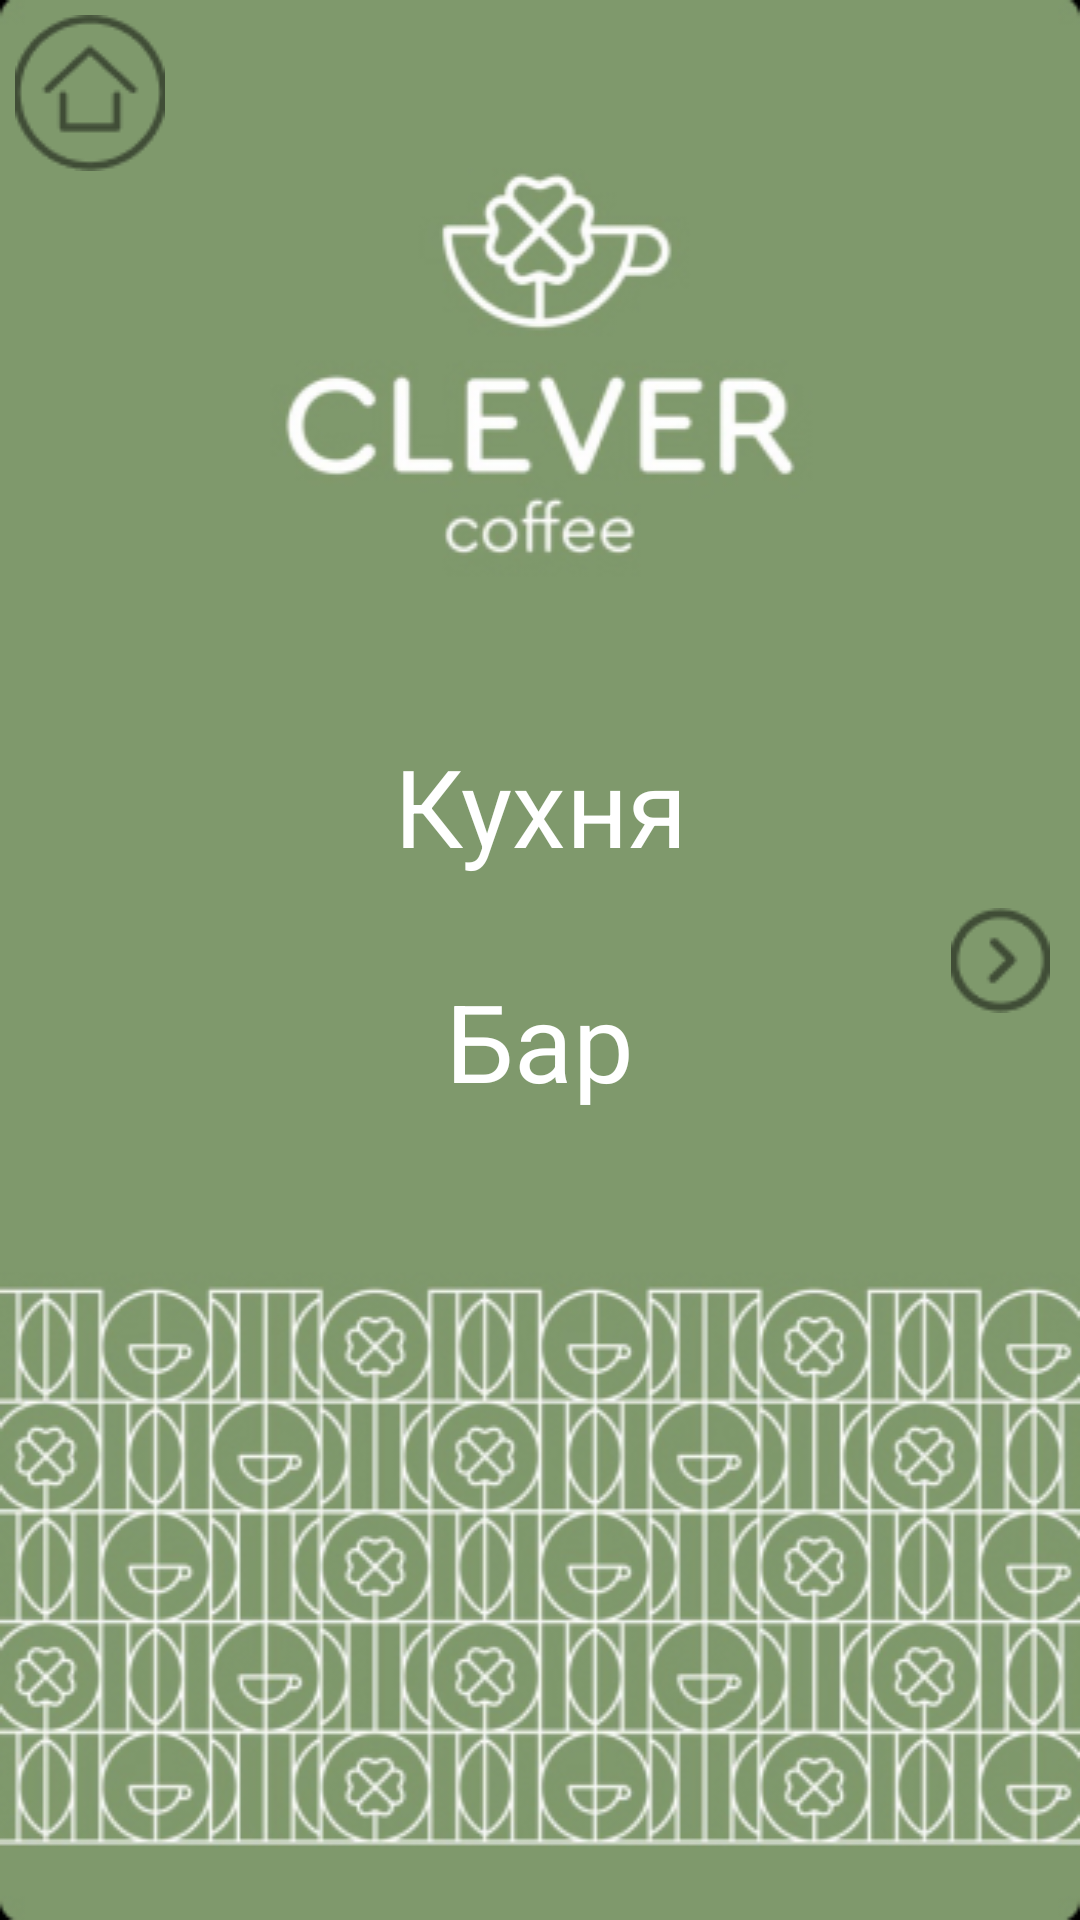

Screen size 1080 × 1920. Icon name, then its center in pixels as (x,y):
home: (90,93)
vpered: (1000,960)
